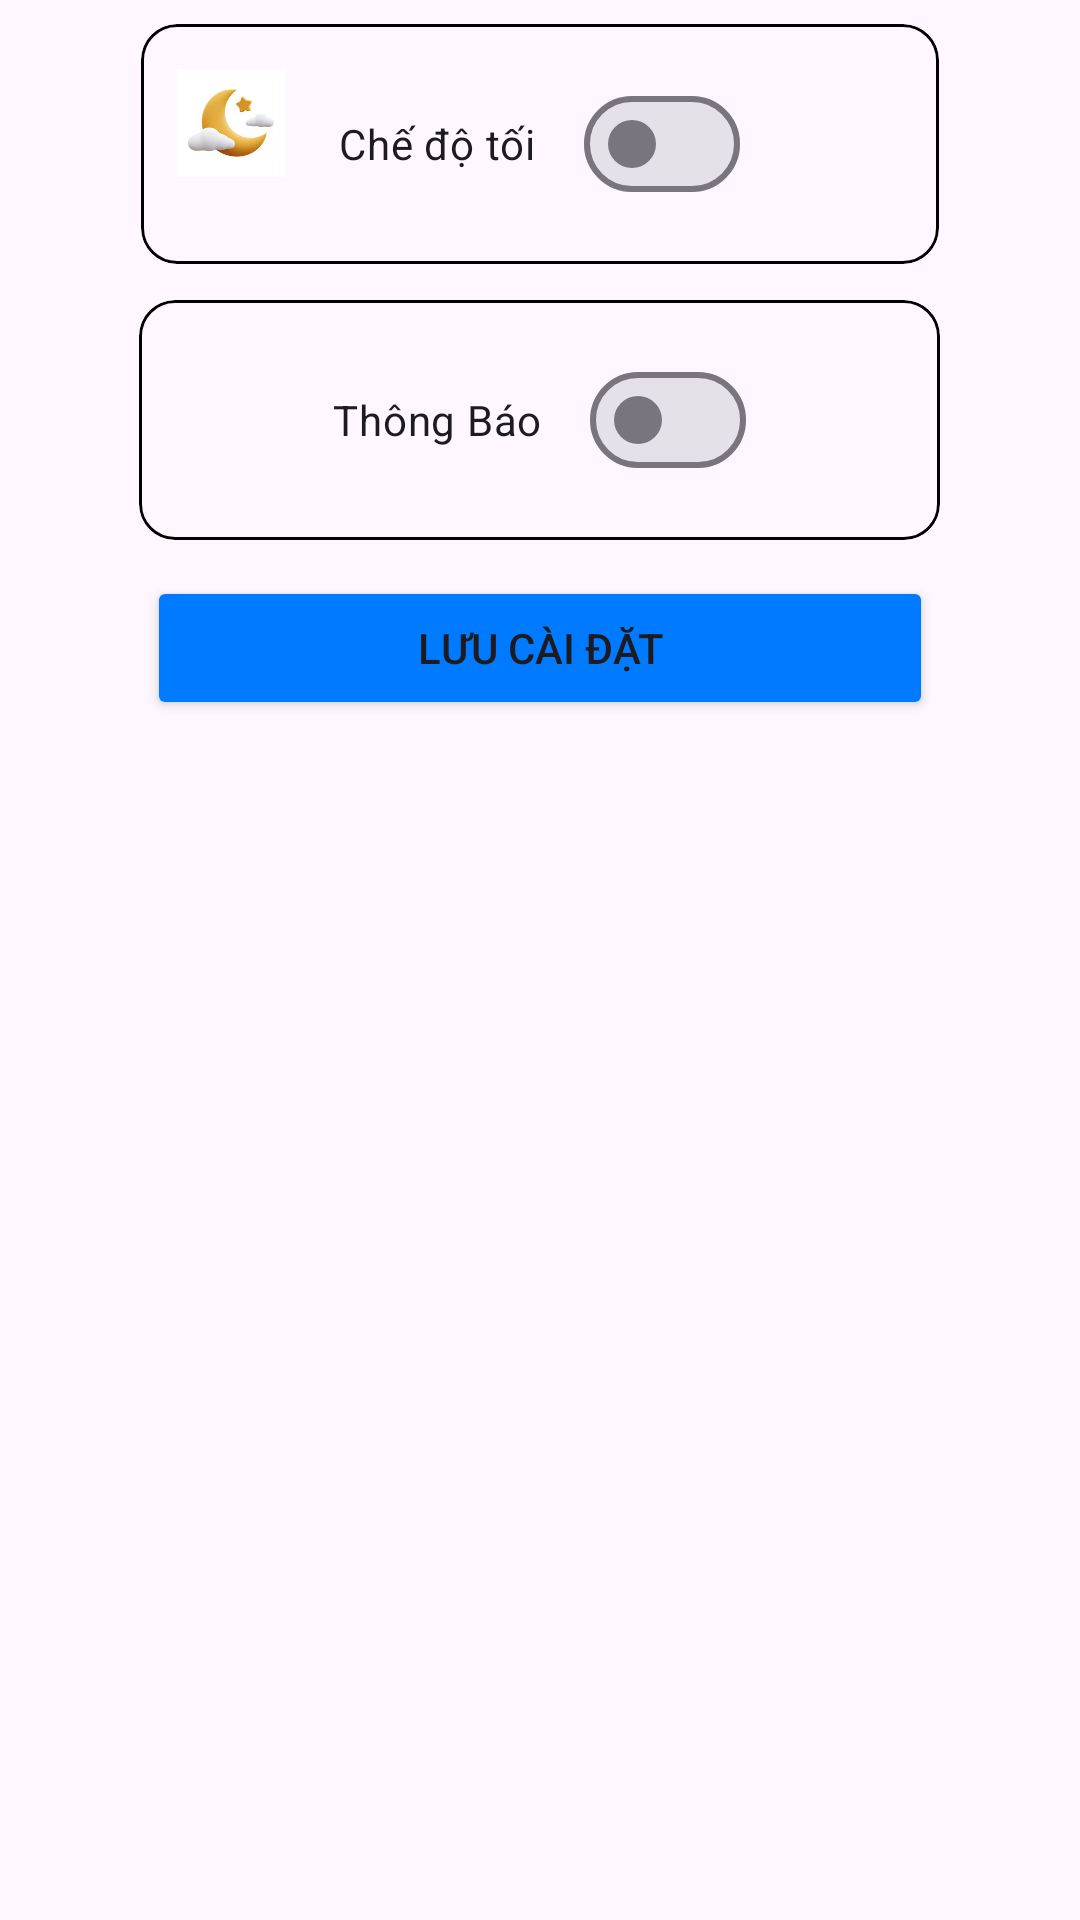

Screen size 1080 × 1920. Icon name, then its box in pixels as (x1=x1, y1=y1, x2=x2, y2=y2):
mattrang: (x1=188, y1=89, x2=274, y2=157)
